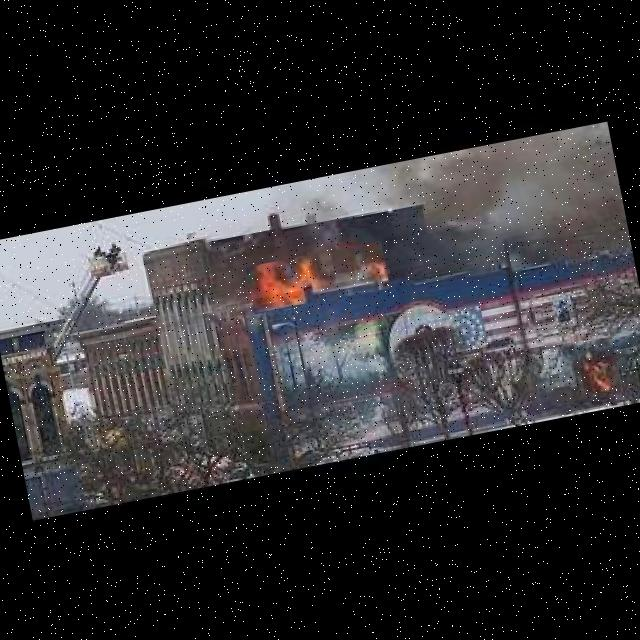fire: (246, 241, 390, 314), (575, 336, 622, 396)
